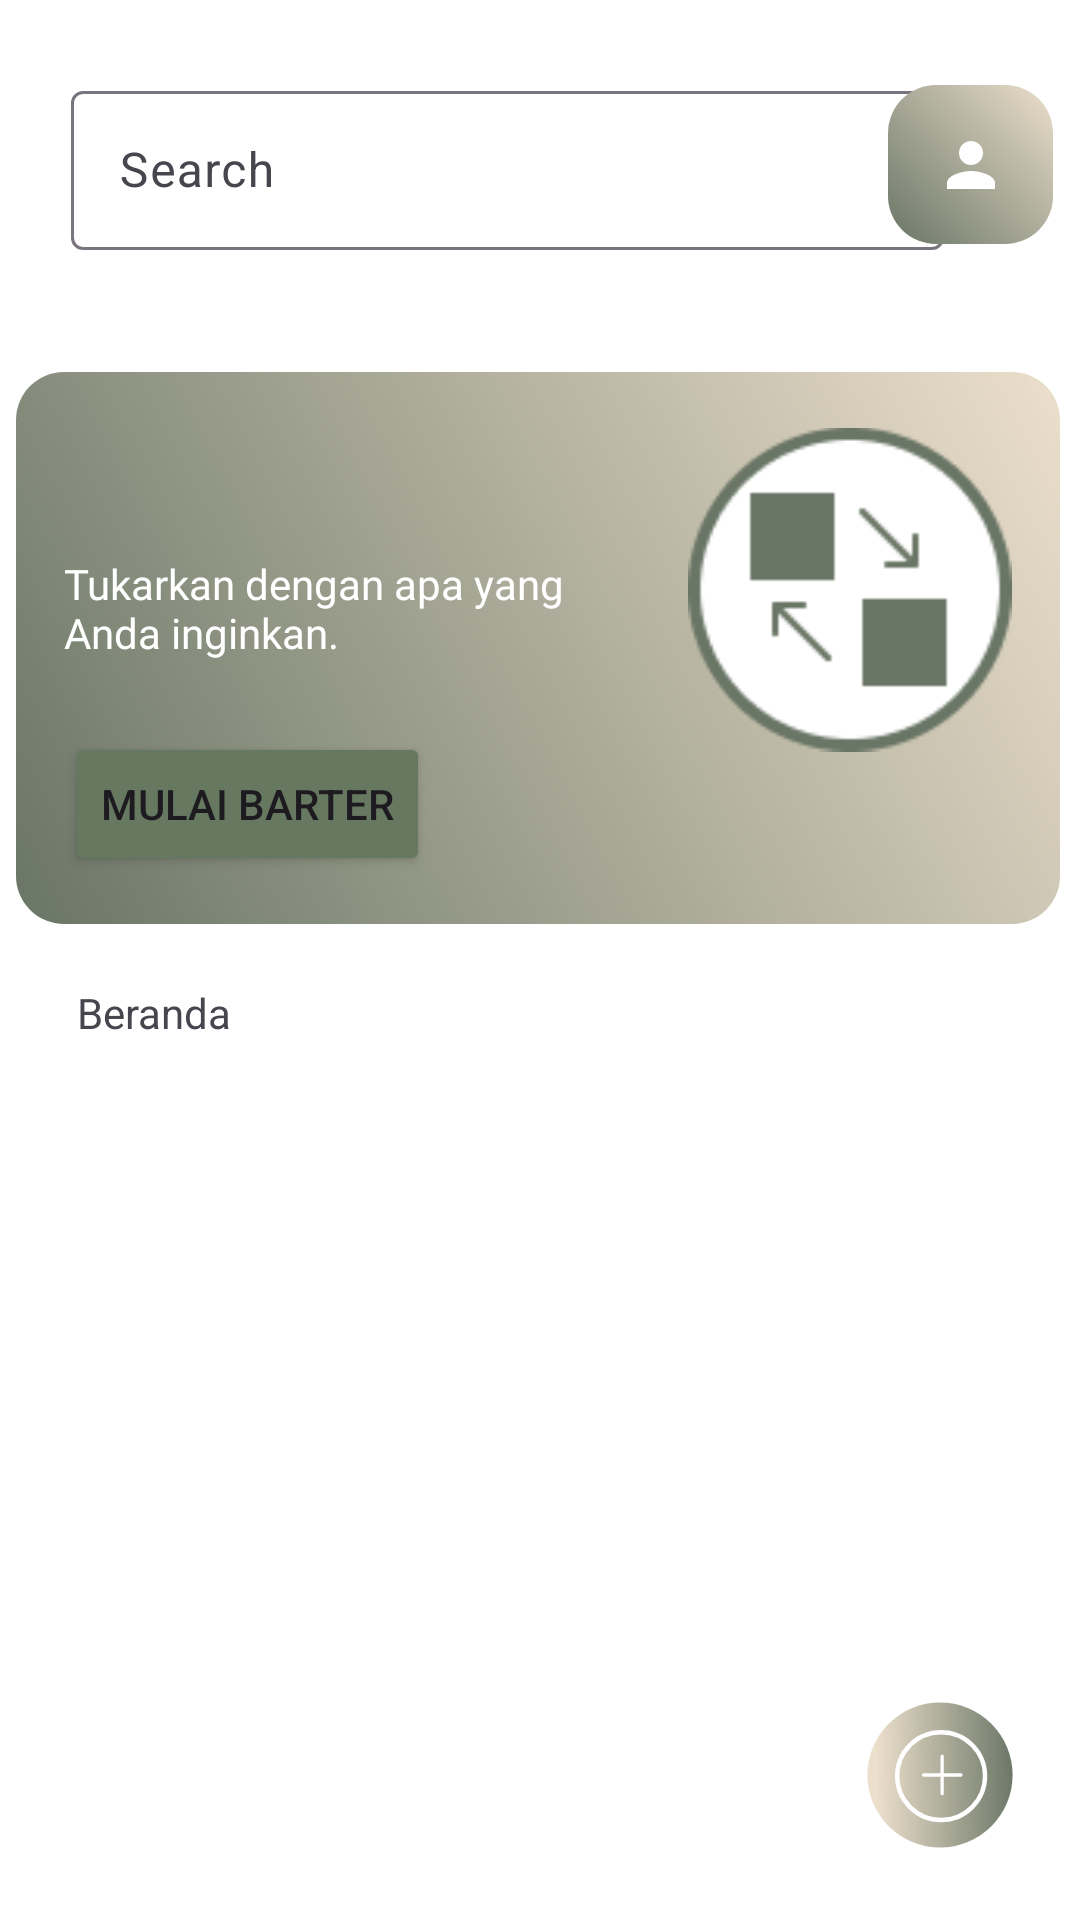

Named icons in this screenshot (1080×1920) and their bounding boxes, box=[x1, y1, x2, y2]:
add item: box=[867, 1702, 1013, 1848]
profile: box=[888, 85, 1053, 244]
